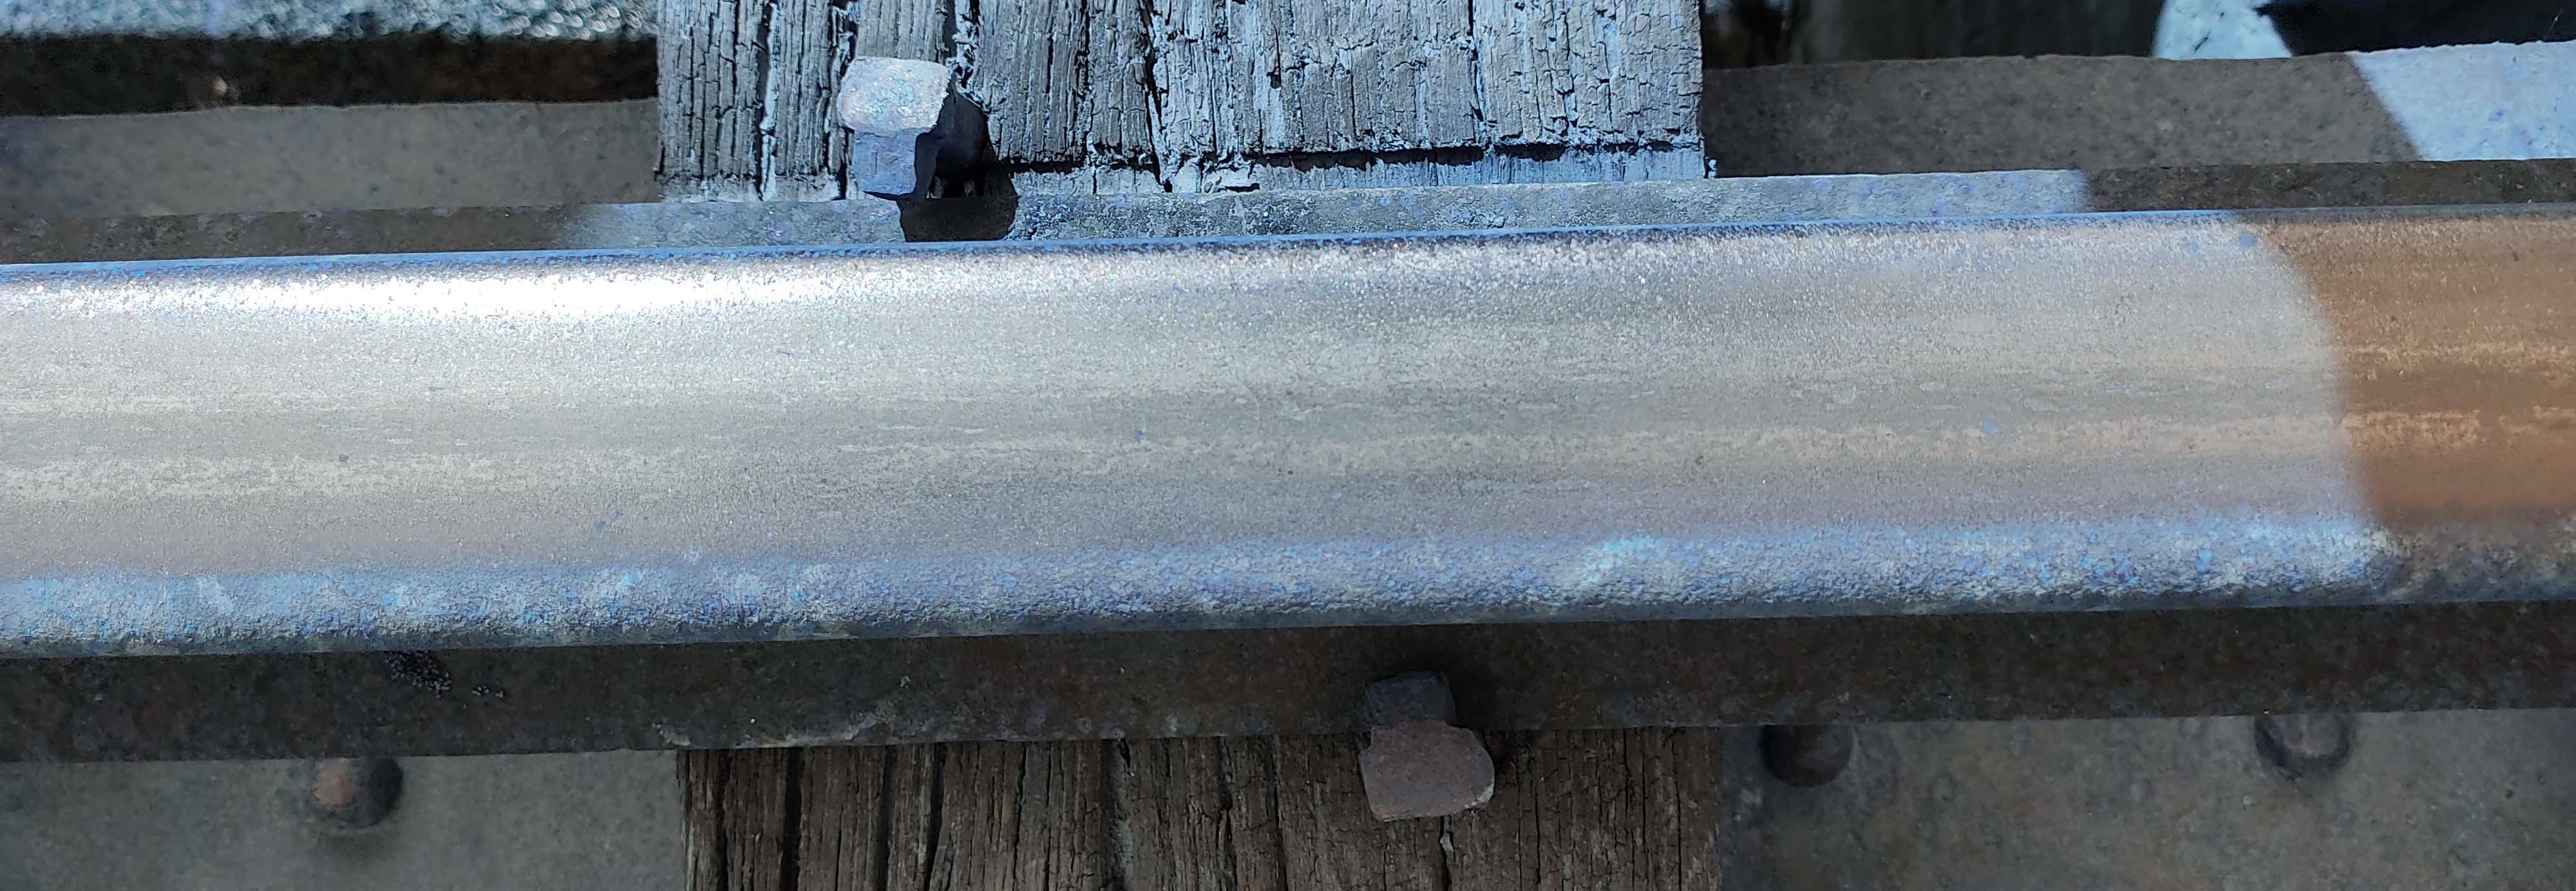error1: (756, 2, 1058, 246), (1303, 656, 1600, 880)
